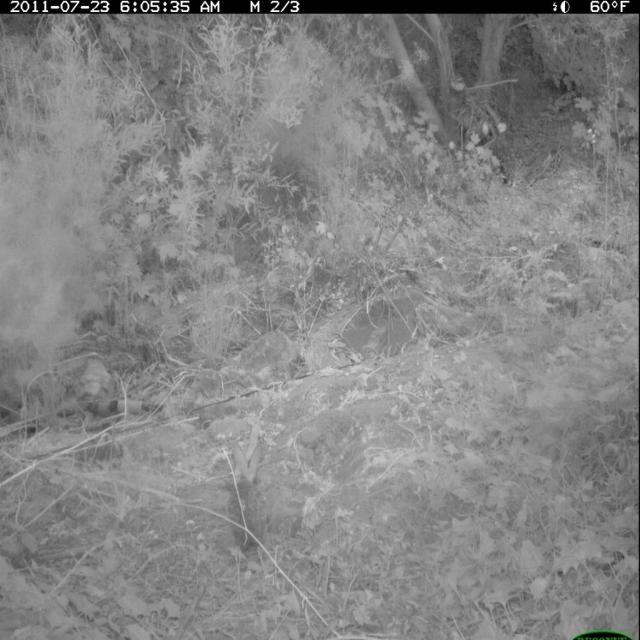rabbit: (224, 432, 278, 559)
